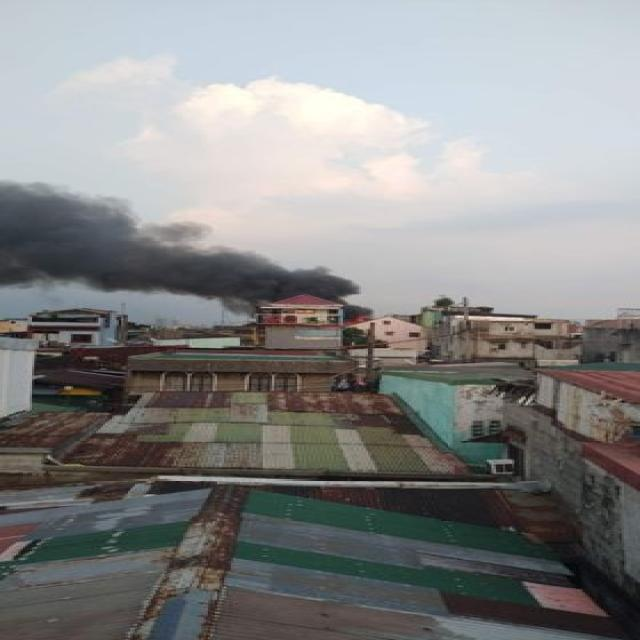Fire: (342, 316, 372, 324)
Smoke: (0, 181, 373, 318)
